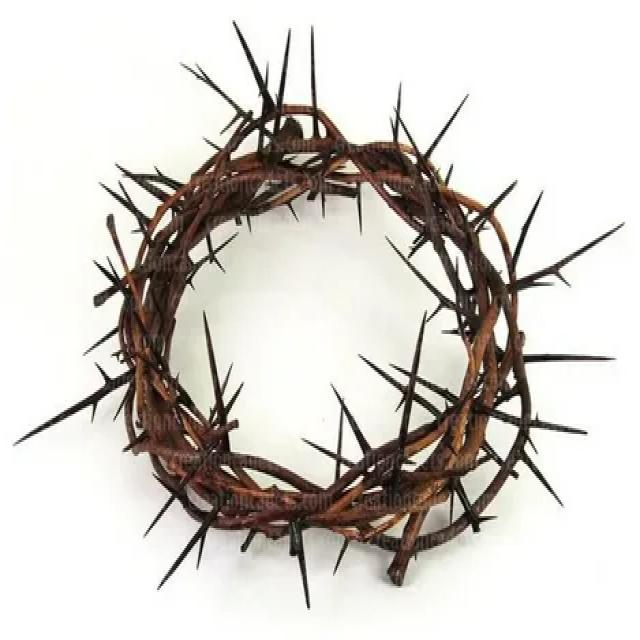crown: (87, 88, 555, 554)
